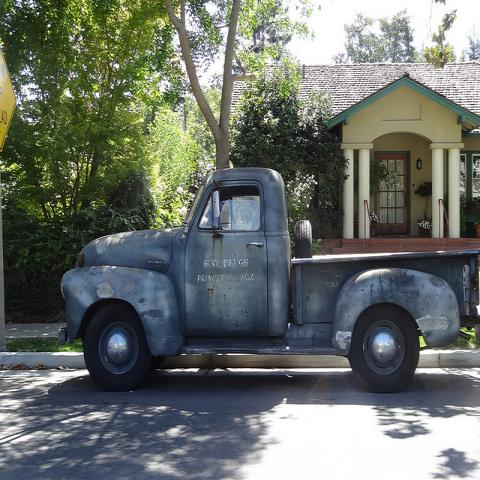truck: (60, 169, 478, 396)
